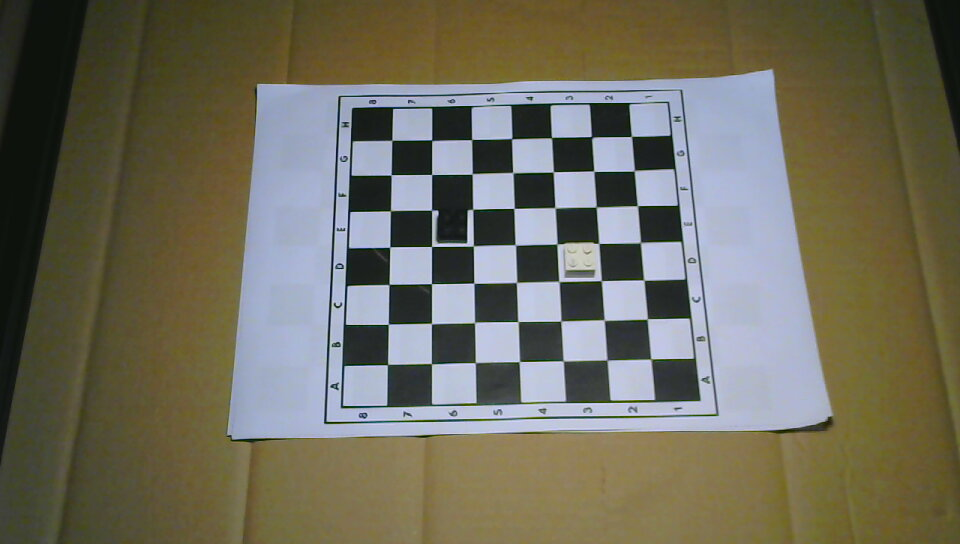bp: (436, 208, 468, 243)
wp: (562, 243, 596, 278)
